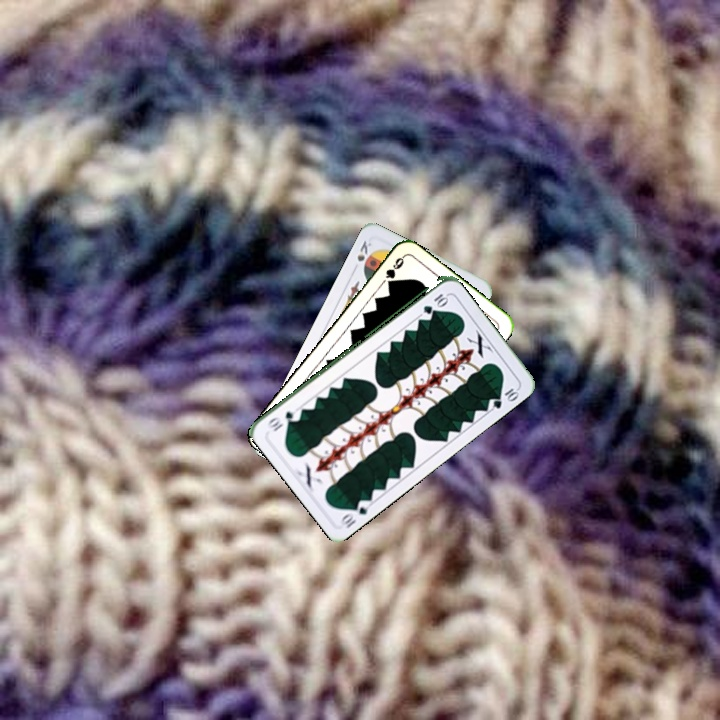G10: (337, 495, 374, 531), (419, 289, 450, 316)
G9: (377, 252, 406, 287)
SK: (353, 236, 374, 264)
